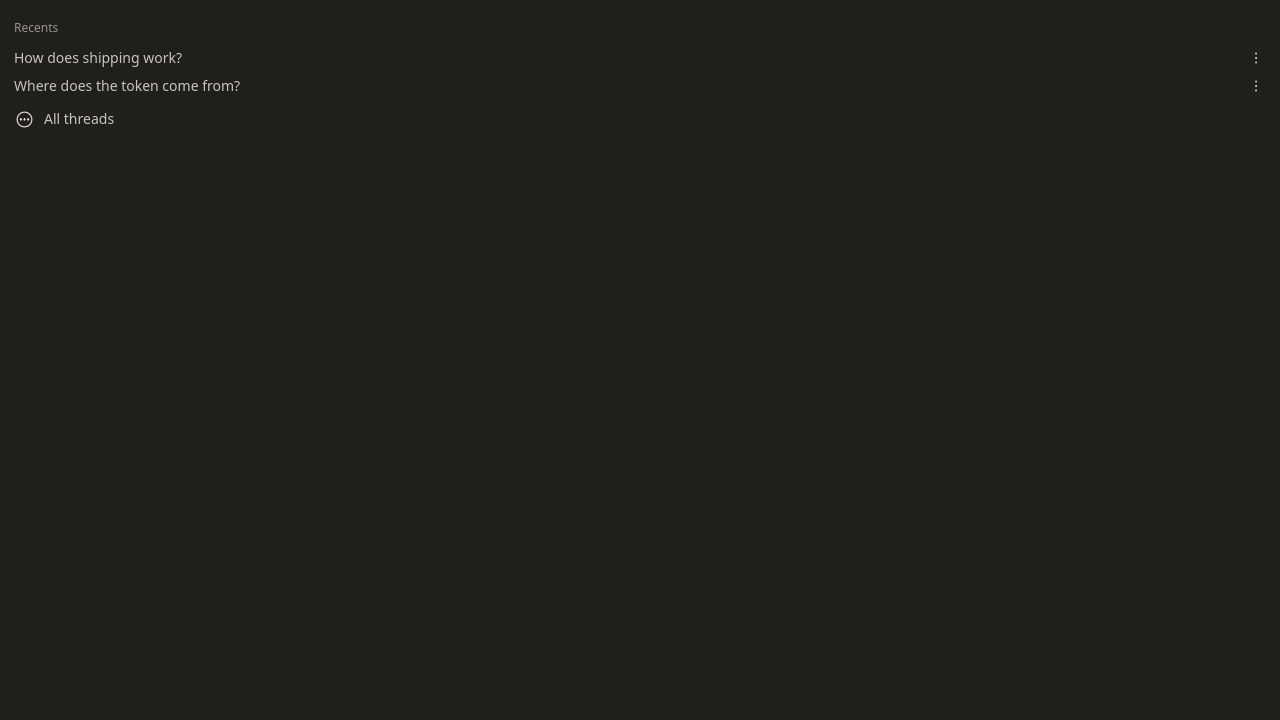
Test case: Threads › the row menu › leaves the row alone when the delete is cancelled
Click the button named "Actions for How does shipping work?" at (1256, 58), box [1244, 46, 1268, 70]
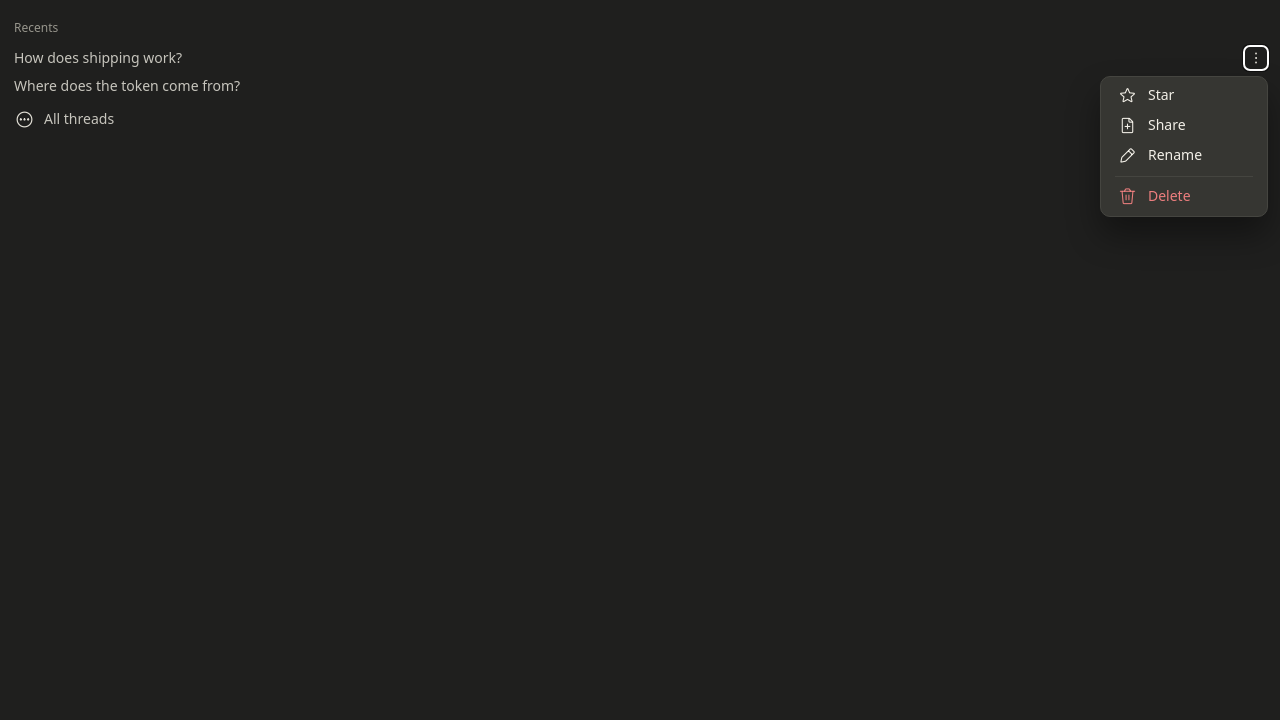
Click the menu item "Delete" at (1184, 197), box [1105, 182, 1263, 212]
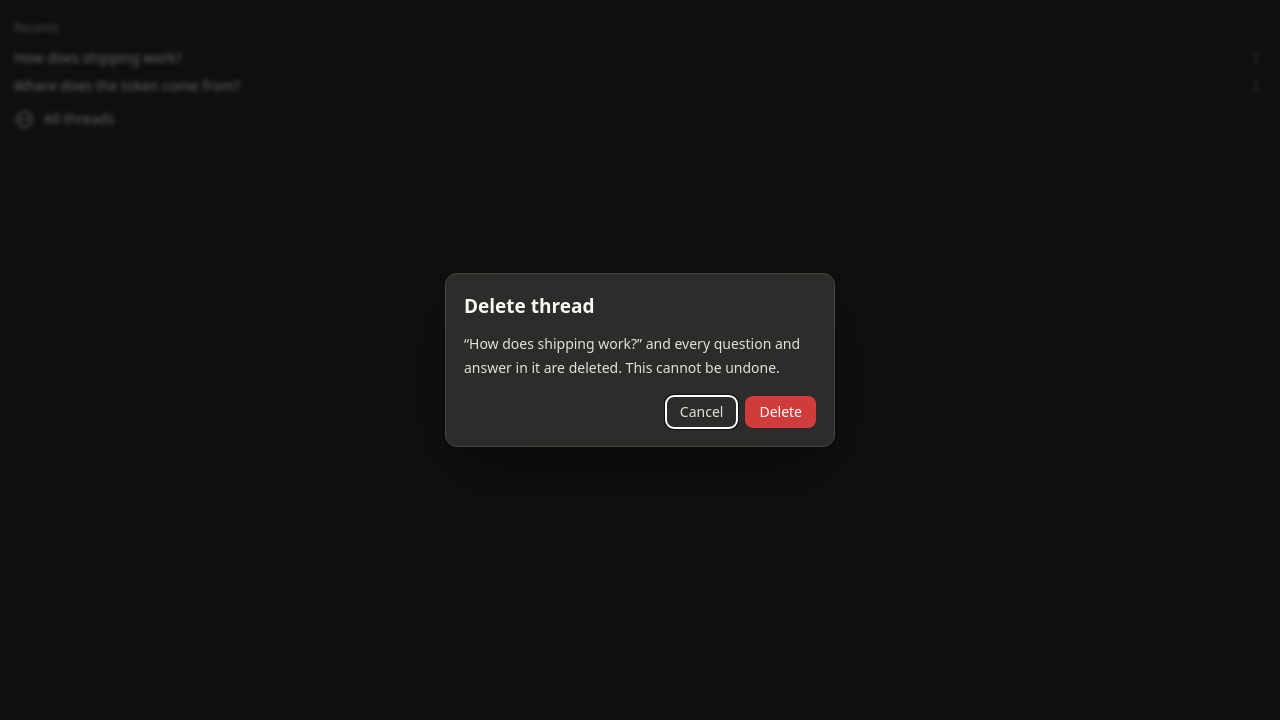
Click the button "Cancel" at (702, 412), box [666, 396, 737, 428]
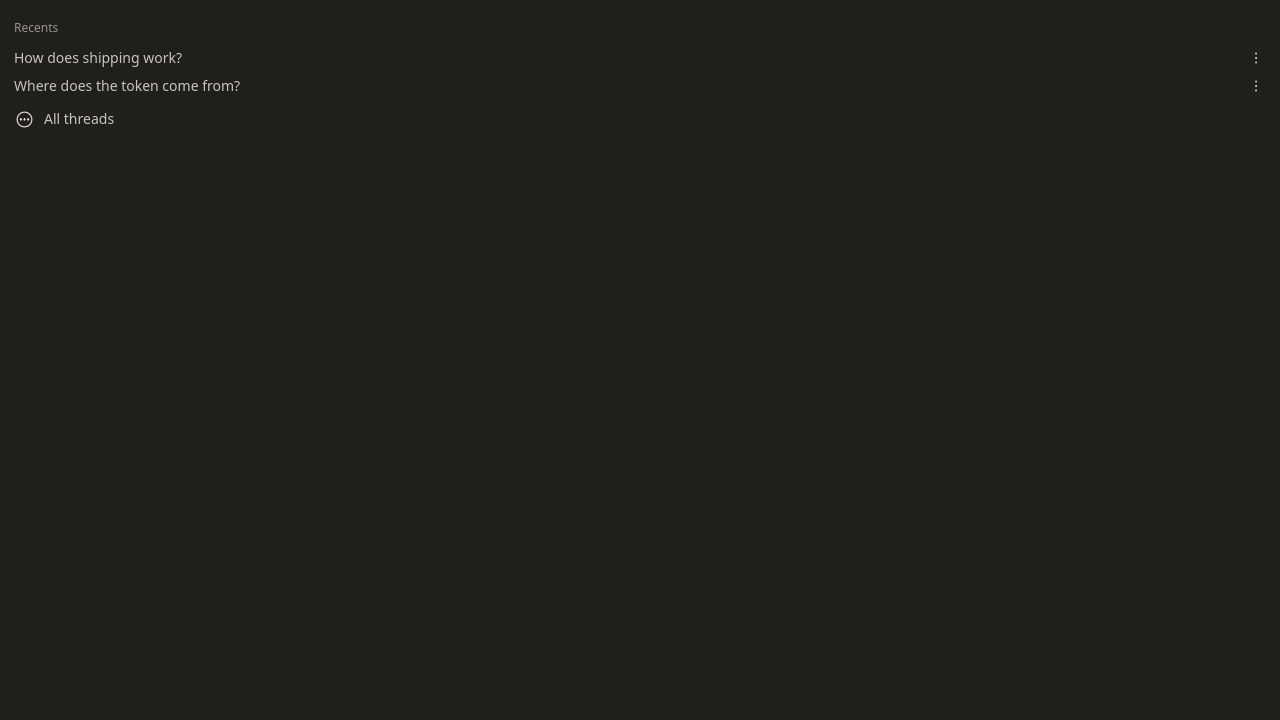
Expected: the button "How does shipping work?" is shown, [14, 44, 1236, 72]
Now the dialog is gone
